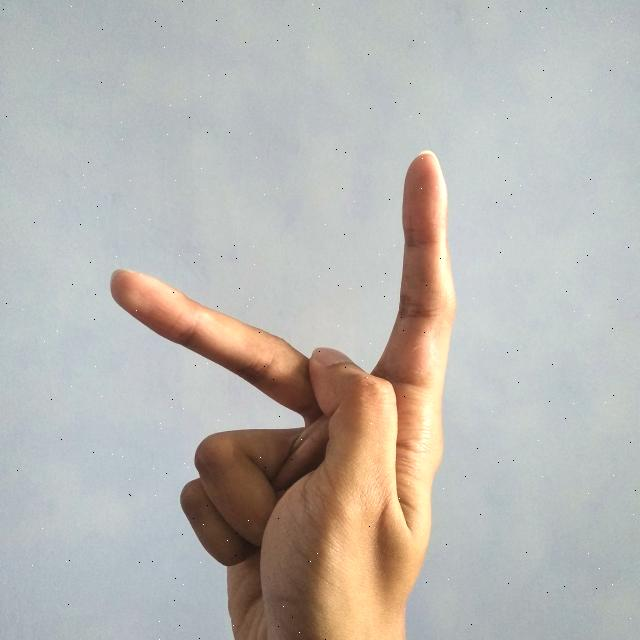K: (111, 144, 463, 640)
